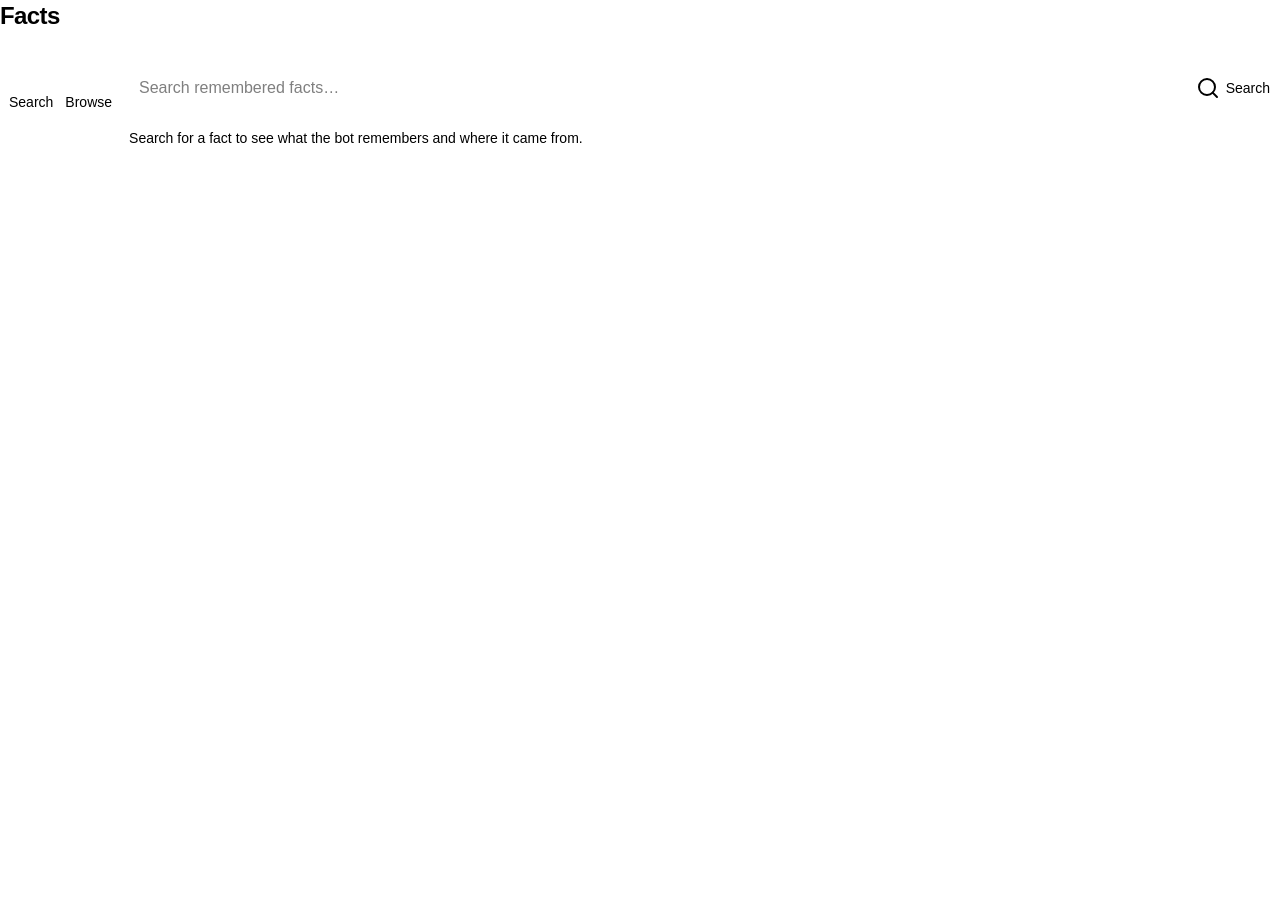
Test: fact browsing after deletion › moves back to the preceding page after deleting the only fact on the last page
What coordinates should you click on to do the following:
click the tab "Browse"
I would click on:
 (89, 102)
Its box is [59, 60, 118, 144].
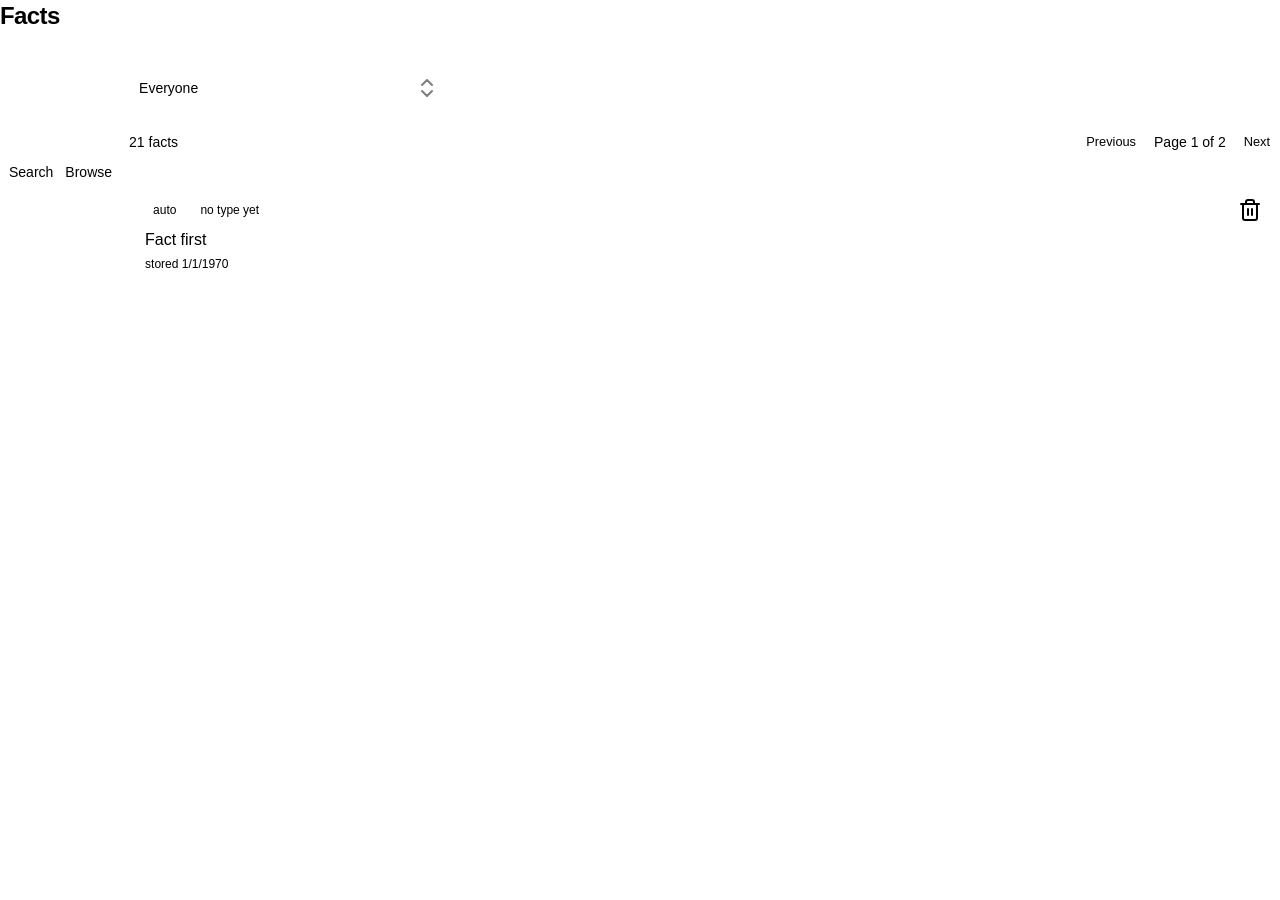
Expected: the text "Fact first" is shown, [145, 231, 206, 248]
What coordinates should you click on to do the following:
click the button "Next"
I would click on:
 (1257, 142)
Its box is [1234, 128, 1279, 156].
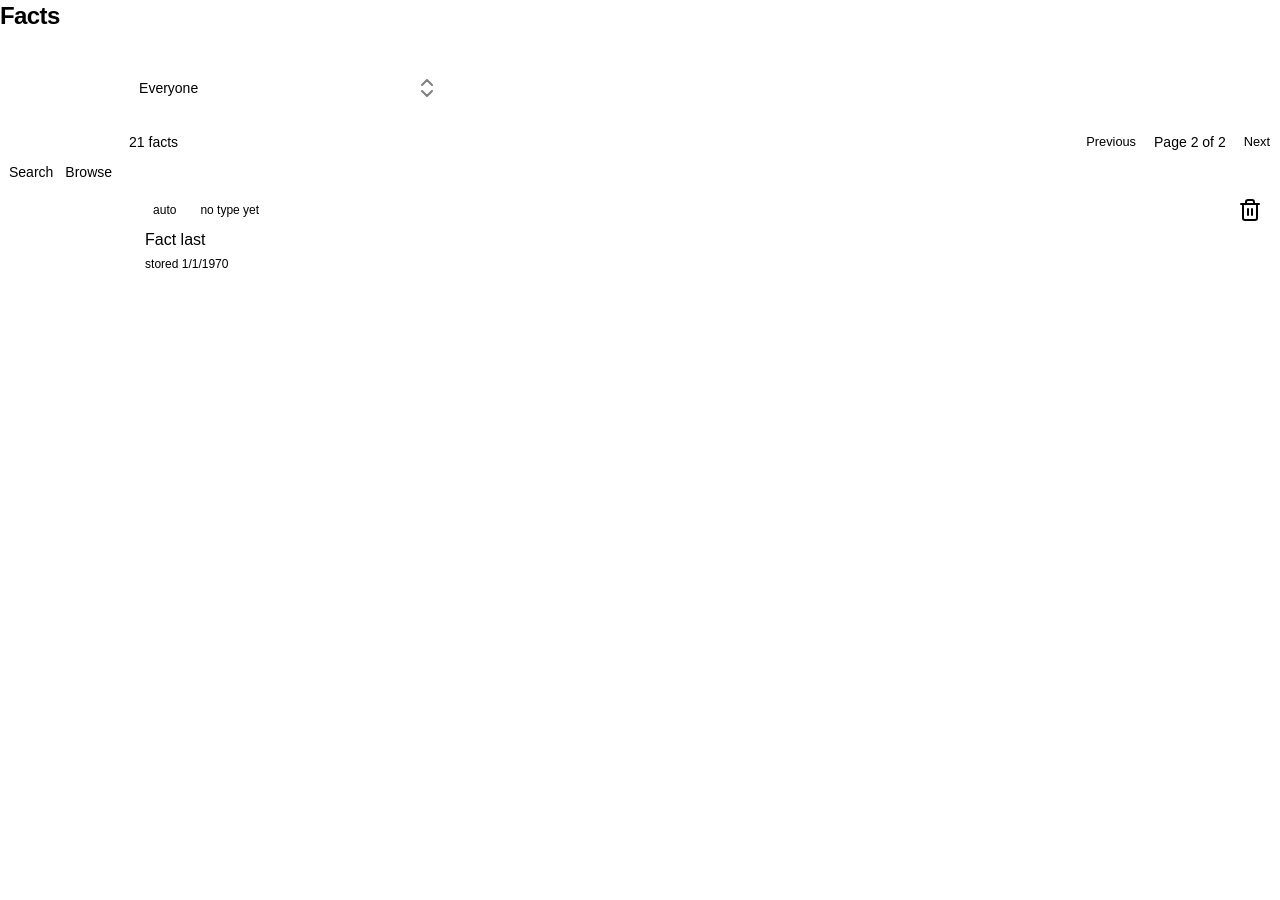
Expected: the text "Fact last" is shown, [145, 231, 206, 248]
What coordinates should you click on to do the following:
click the button named "Delete fact"
I would click on:
 (1250, 210)
Its box is [1236, 196, 1264, 224].
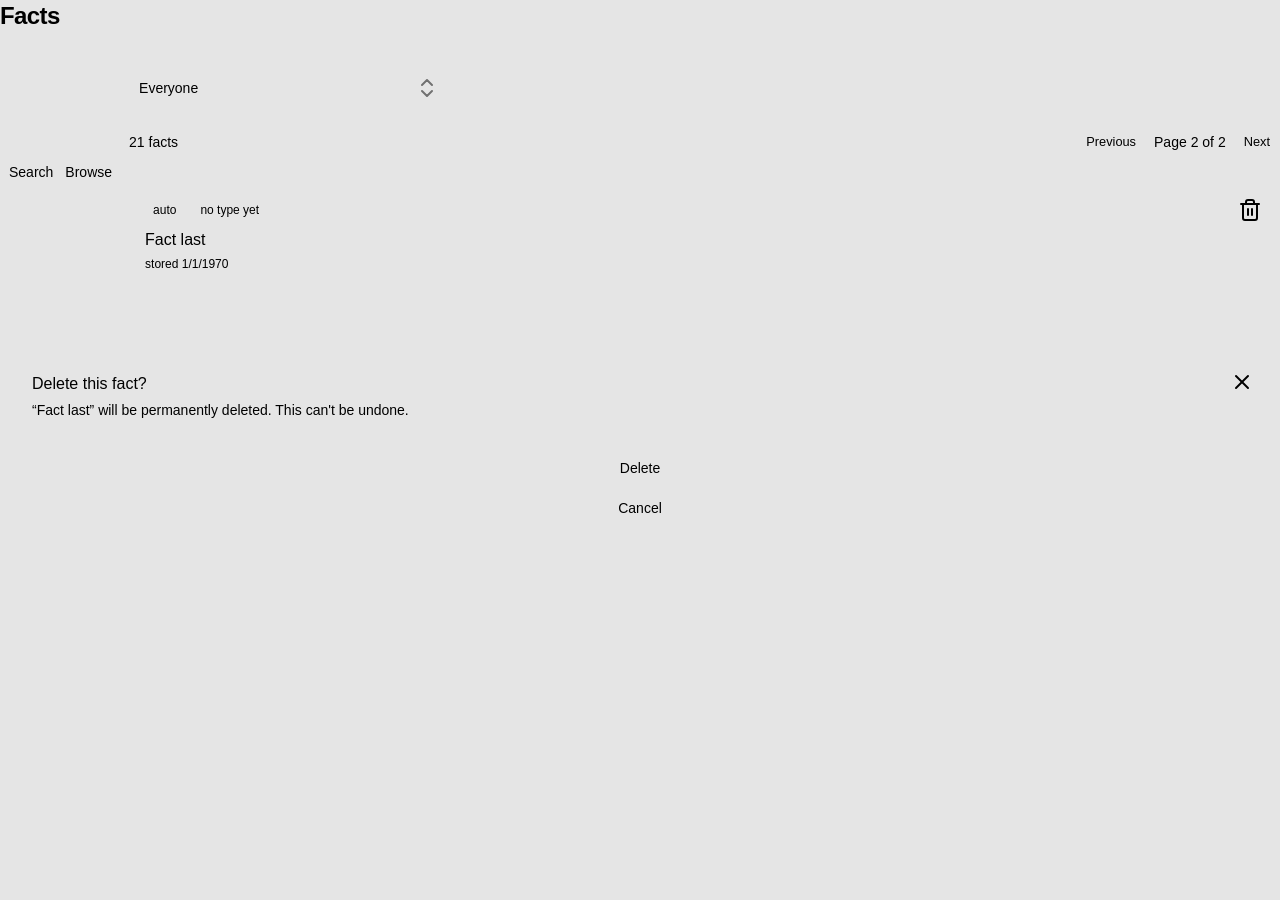
What coordinates should you click on to do the following:
click the button "Delete"
I would click on:
 (640, 468)
Its box is [32, 452, 1248, 484].
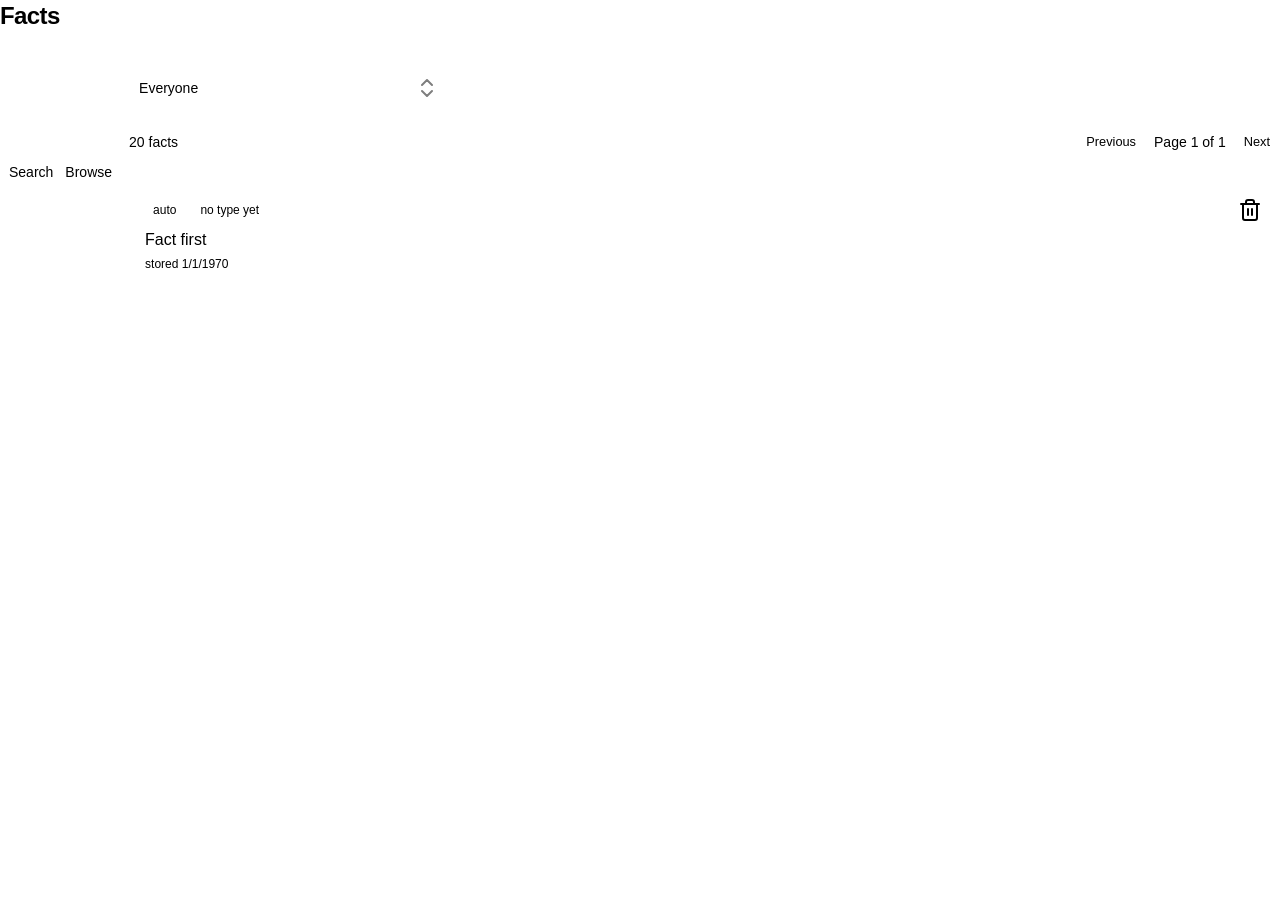
Expected: the text "Fact first" is shown, [145, 231, 206, 248]
Expected: the text "Page 1 of 1" is shown, [1154, 132, 1226, 152]
